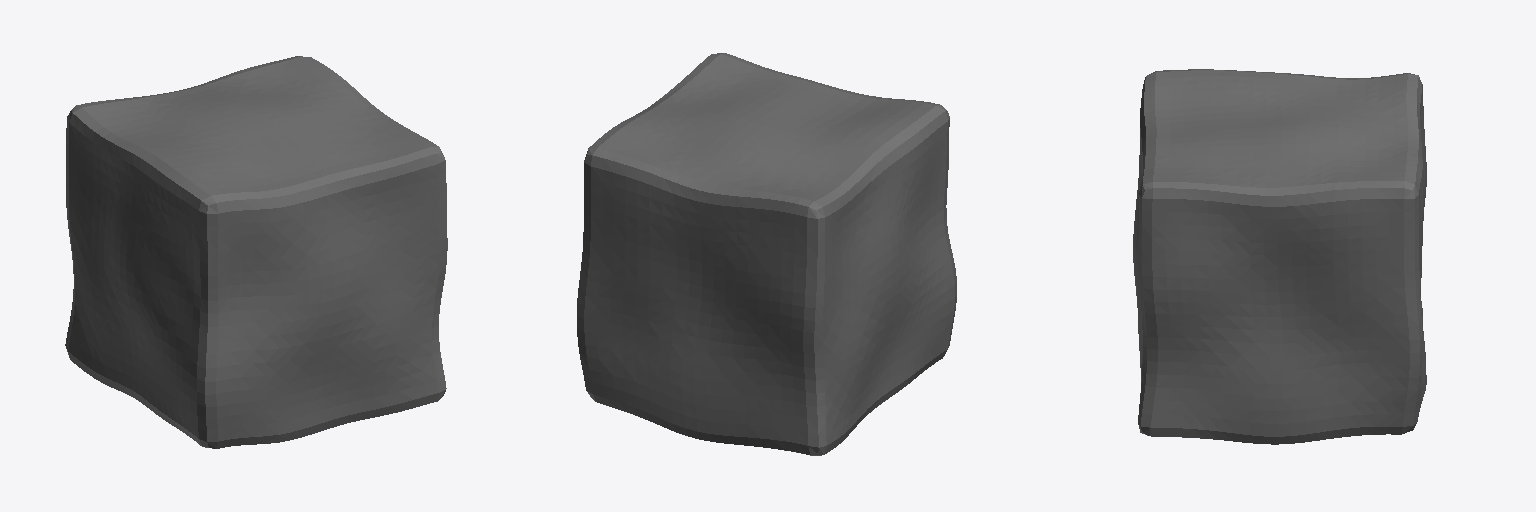
The model's file is bloc2.obj.
3 renders of one model, left to right at view 1: azimuth 30°, elevation 25°; view 2: azimuth 150°, elevation 25°; view 3: azimuth 270°, elevation 25°, orthographic.
Visible parts, largest first — view 1: Box008; view 2: Box008; view 3: Box008.
Boxes of the visible parts, box(x1,y1,x2,y2) form: Box008: box(65, 56, 447, 448); Box008: box(577, 53, 956, 455); Box008: box(1133, 69, 1426, 444).
Size of the model in its own units: 0.7353 by 0.7347 by 0.7353.